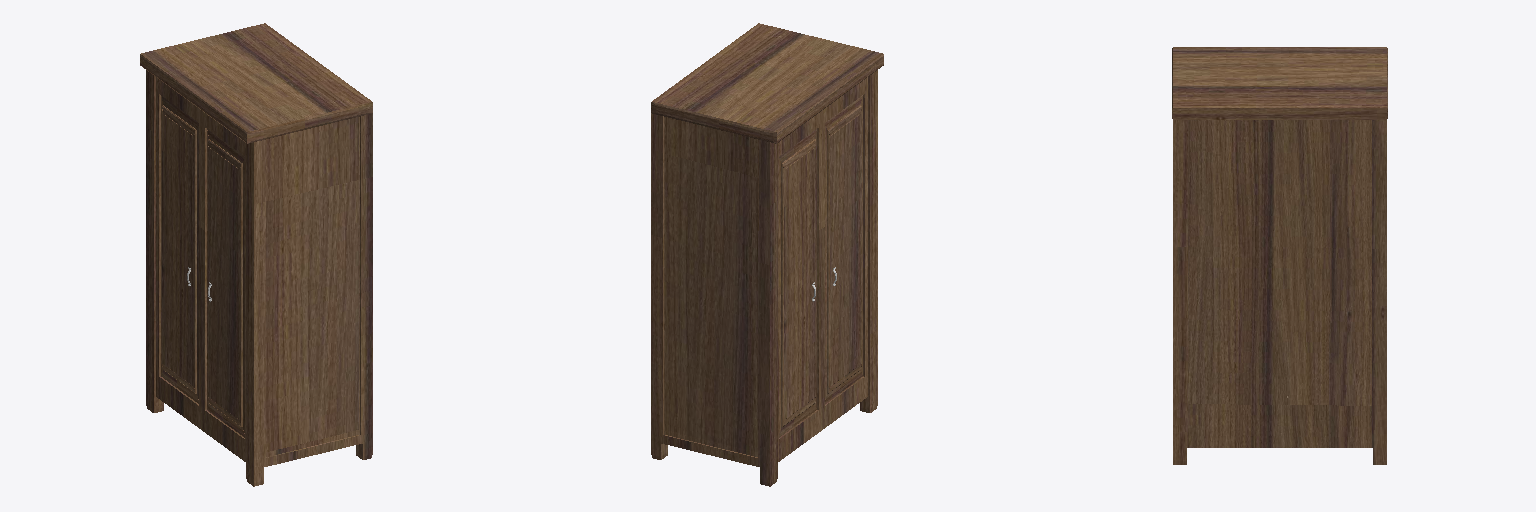
The picture shows the model from 3 angles: view 1: azimuth 30°, elevation 25°; view 2: azimuth 150°, elevation 25°; view 3: azimuth 270°, elevation 25°; orthographic projection.
Parts seen in each view (by area): view 1: pasted__polySurface11 group20; view 2: pasted__polySurface11 group20; view 3: pasted__polySurface11 group20.
Part boxes in pixels (left/top/right/bottom): pasted__polySurface11 group20: left=140, top=23, right=372, bottom=486; pasted__polySurface11 group20: left=651, top=23, right=883, bottom=486; pasted__polySurface11 group20: left=1172, top=47, right=1387, bottom=464.
Size of the model in its own units: 0.9397 by 2.54 by 1.4.
3 materials, 2 textured.